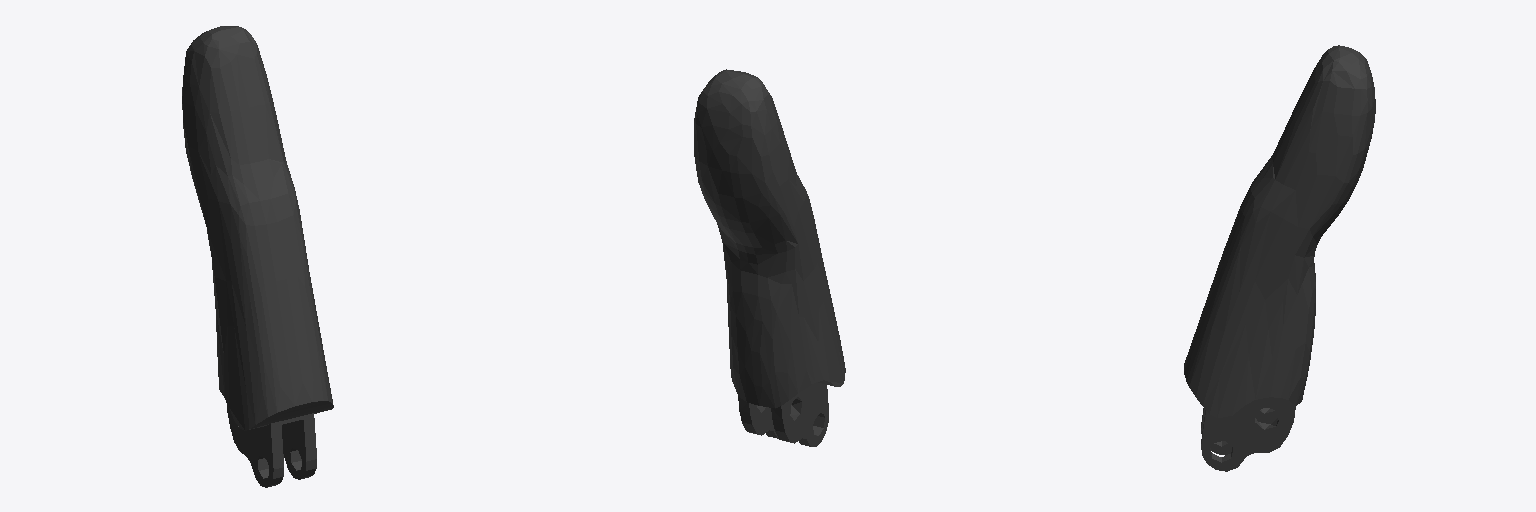
File: L_middle_distal.obj
3 renders of one model, left to right at view 1: azimuth 30°, elevation 25°; view 2: azimuth 150°, elevation 25°; view 3: azimuth 270°, elevation 25°, orthographic.
Size of the model in its own units: 0.0126 by 0.0549 by 0.0233.